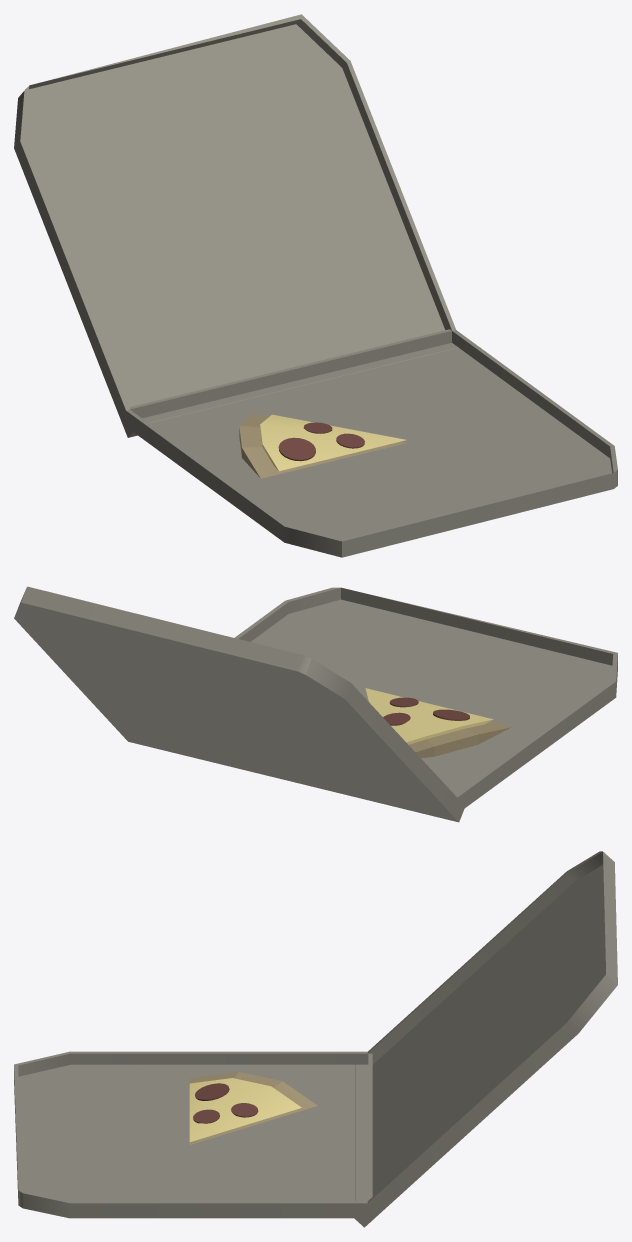
File: colored pizza box.fbx
3 renders of one model, top to bottom at view 1: azimuth 30°, elevation 25°; view 2: azimuth 150°, elevation 25°; view 3: azimuth 270°, elevation 25°, orthographic. The views are drawn at different scales.
Parts seen in each view (by area): view 1: pCube3, pCylinder2, pCylinder1; view 2: pCube3, pCylinder2, pCylinder1, pCylinder3; view 3: pCube3, pCylinder2, pCylinder1.
Part boxes in pixels (box(x1,y1,x2,y2)): pCube3: box(14, 14, 617, 557); pCylinder2: box(260, 414, 406, 471); pCylinder1: box(239, 414, 406, 478); pCube3: box(14, 586, 617, 822); pCylinder2: box(365, 688, 493, 744); pCylinder1: box(365, 691, 511, 757); pCylinder3: box(433, 709, 469, 720); pCube3: box(14, 851, 617, 1227); pCylinder2: box(189, 1078, 301, 1141); pCylinder1: box(189, 1072, 317, 1144).
Size of the model in its own units: 0.4826 by 0.3572 by 0.8129.
